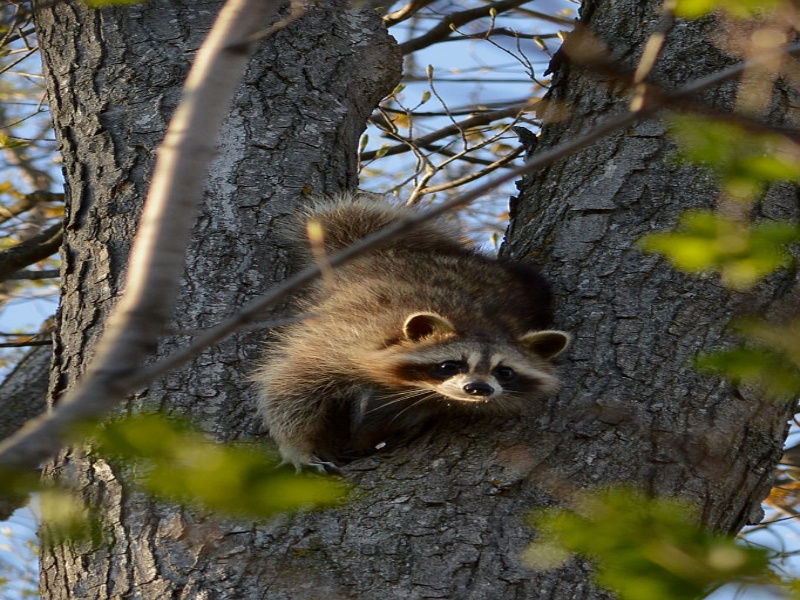raccoon: (237, 194, 590, 490)
